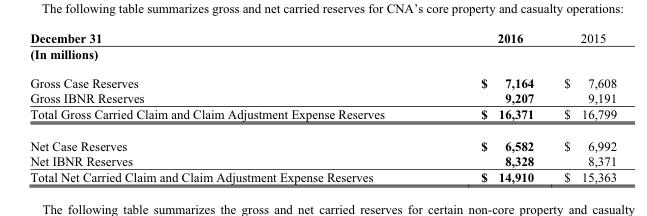table: (29, 28, 616, 184)
table column: (29, 28, 432, 184), (432, 28, 548, 184), (548, 28, 616, 184)
table column header: (29, 28, 616, 45)
table projected row header: (29, 45, 616, 67)
table row: (29, 105, 616, 129), (29, 129, 616, 153), (29, 67, 616, 90), (29, 45, 616, 67), (29, 28, 616, 45), (29, 168, 616, 184), (29, 90, 616, 105), (29, 153, 616, 168)
